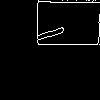V: (25, 24, 74, 60)
